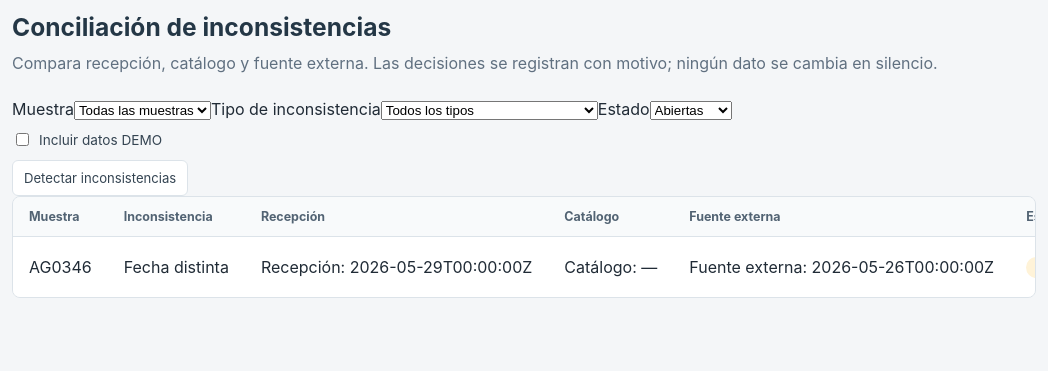
Test: conciliación de inconsistencias › ejecuta detección idempotente para una muestra sin modificar datos en el cliente
Expected: the cell "Fecha distinta" is shown, x1=108 y1=237 x2=245 y2=297
Select "AG0346" in the dropdown labelled "Muestra" at (142, 110), box x1=74 y1=101 x2=211 y2=120
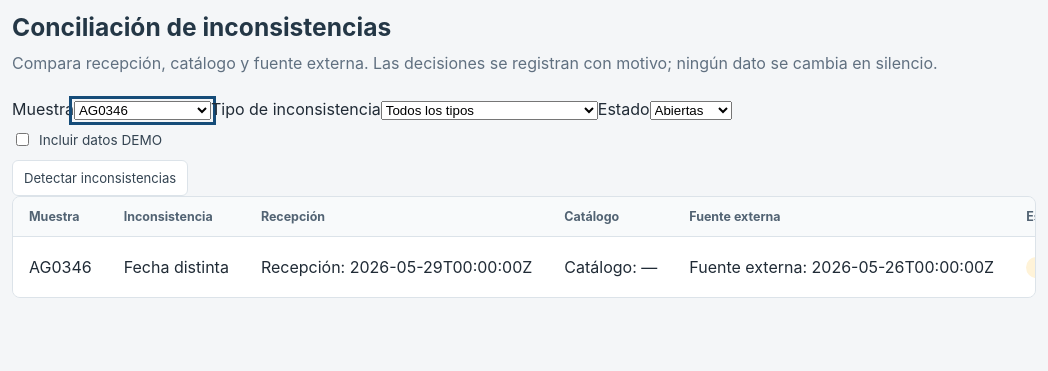
Click the button "Detectar inconsistencias".
click(100, 178)  # box x1=12 y1=160 x2=188 y2=196
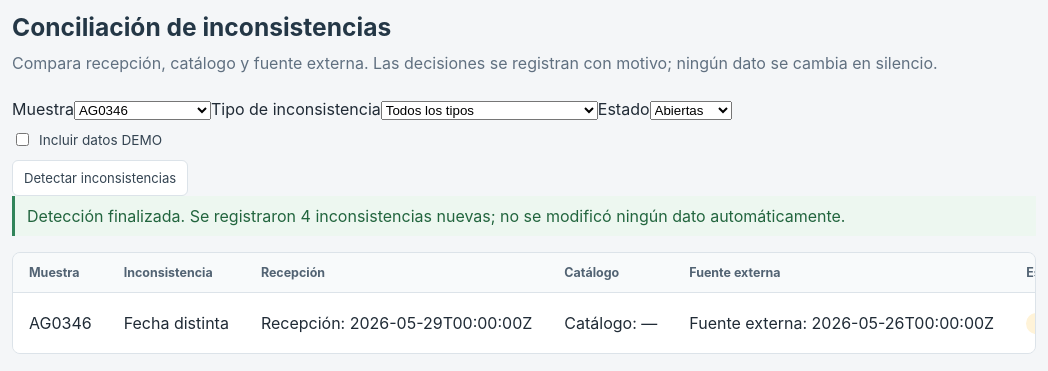
Expected: the text "no se modificó ningún dato automáticamente" is shown, x1=27 y1=206 x2=846 y2=226
